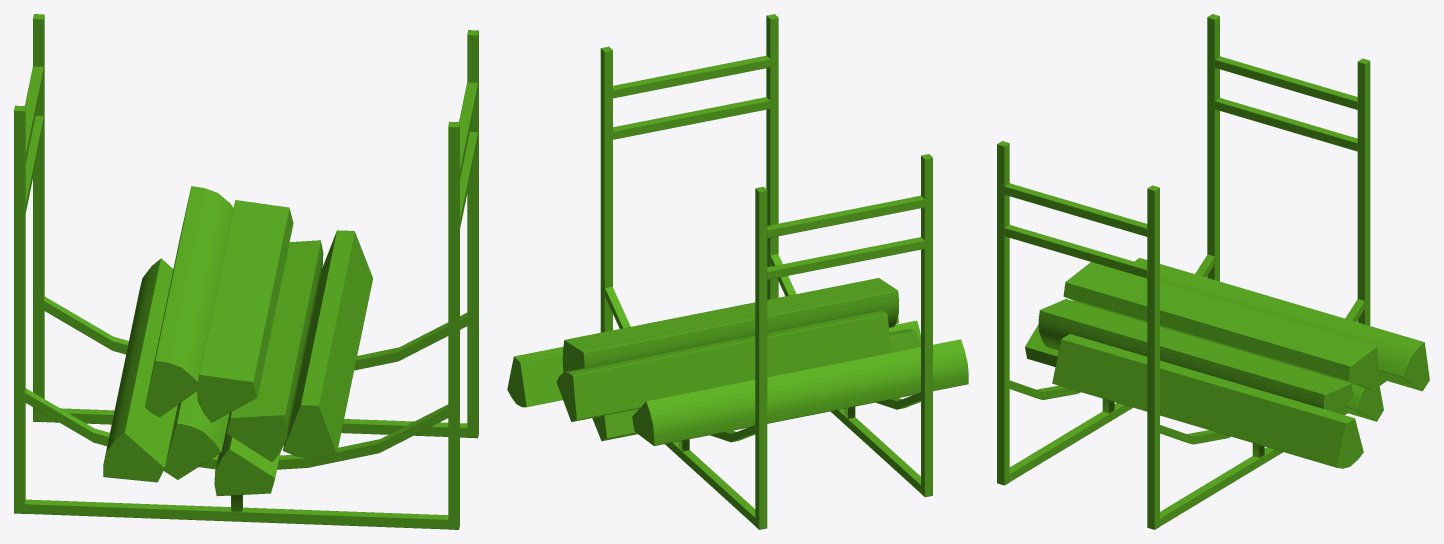
The model's file is log holder.fbx.
The picture shows the model from 3 angles, left to right: view 1: azimuth 30°, elevation 25°; view 2: azimuth 150°, elevation 25°; view 3: azimuth 270°, elevation 25°; orthographic projection. The views are drawn at different scales.
Visible parts, largest first — view 1: logholder; view 2: logholder; view 3: logholder.
Boxes of the visible parts, <box> form: logholder: <box>14,14,478,529</box>; logholder: <box>507,14,968,529</box>; logholder: <box>997,14,1429,529</box>.
Size of the model in its own units: 81.04 by 72.04 by 83.31.
